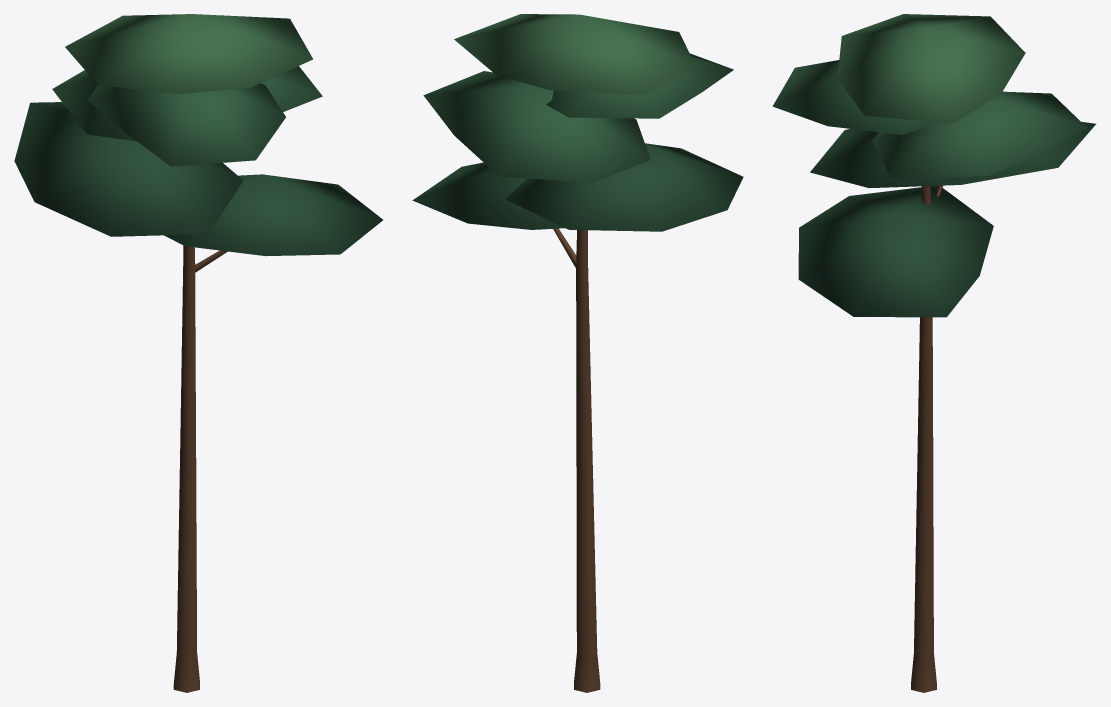
Rendered from pine_dalat_tall.glb.
The picture shows the model from 3 angles, left to right: view 1: azimuth 30°, elevation 25°; view 2: azimuth 150°, elevation 25°; view 3: azimuth 270°, elevation 25°; orthographic projection.
Parts seen in each view (by area): view 1: canopy_tier2_west, canopy_crown_top, canopy_tier3_south, canopy_tier1_east, trunk, canopy_tier3_north; view 2: canopy_tier3_north, canopy_crown_top, canopy_tier2_west, trunk, canopy_tier1_east, canopy_tier3_south; view 3: canopy_tier1_east, canopy_crown_top, canopy_tier3_north, trunk, canopy_tier2_west, canopy_tier3_south.
Boxes of the visible parts, x1,y1,x2,y2 form: canopy_tier2_west: (14,102,243,236); canopy_crown_top: (65,14,312,94); canopy_tier3_south: (88,83,285,166); canopy_tier1_east: (164,174,382,256); trunk: (173,245,199,692); canopy_tier3_north: (52,66,322,141); canopy_tier3_north: (423,71,650,182); canopy_crown_top: (454,14,696,95); canopy_tier2_west: (505,143,743,231); trunk: (574,230,600,692); canopy_tier1_east: (412,162,564,229); canopy_tier3_south: (546,53,733,118); canopy_tier1_east: (798,185,993,317); canopy_crown_top: (837,14,1025,123); canopy_tier3_north: (872,91,1087,178); trunk: (911,186,936,692); canopy_tier2_west: (810,121,1095,188); canopy_tier3_south: (772,60,938,134).
Bounding box in the file's own units: 10.33 × 21.4 × 9.51.
